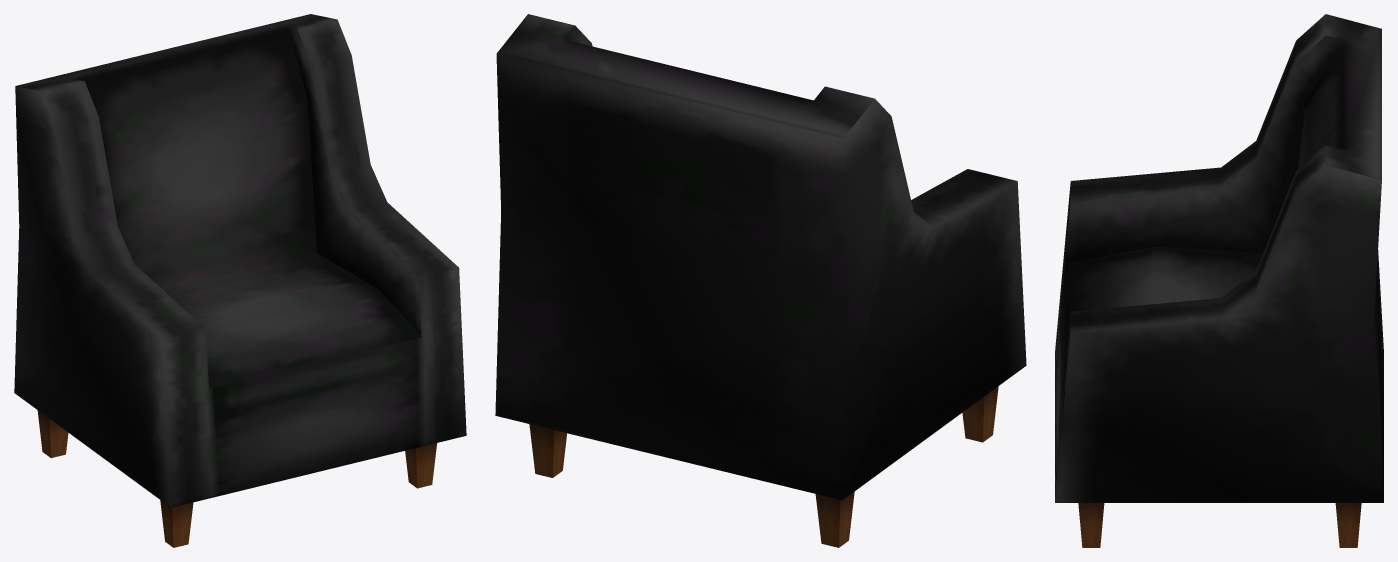
The model's file is chr_lrg_hi_blklthr.fbx.
3 renders of one model, left to right at view 1: azimuth 30°, elevation 25°; view 2: azimuth 150°, elevation 25°; view 3: azimuth 270°, elevation 25°, orthographic. The views are drawn at different scales.
Parts seen in each view (by area): view 1: mesh_0; view 2: mesh_0; view 3: mesh_0.
Boxes of the visible parts, x1,y1,x2,y2 form: mesh_0: (14, 14, 466, 547); mesh_0: (495, 14, 1026, 547); mesh_0: (1055, 14, 1383, 547).
Size of the model in its own units: 90.34 by 110 by 83.04.
1 material, 1 textured.
